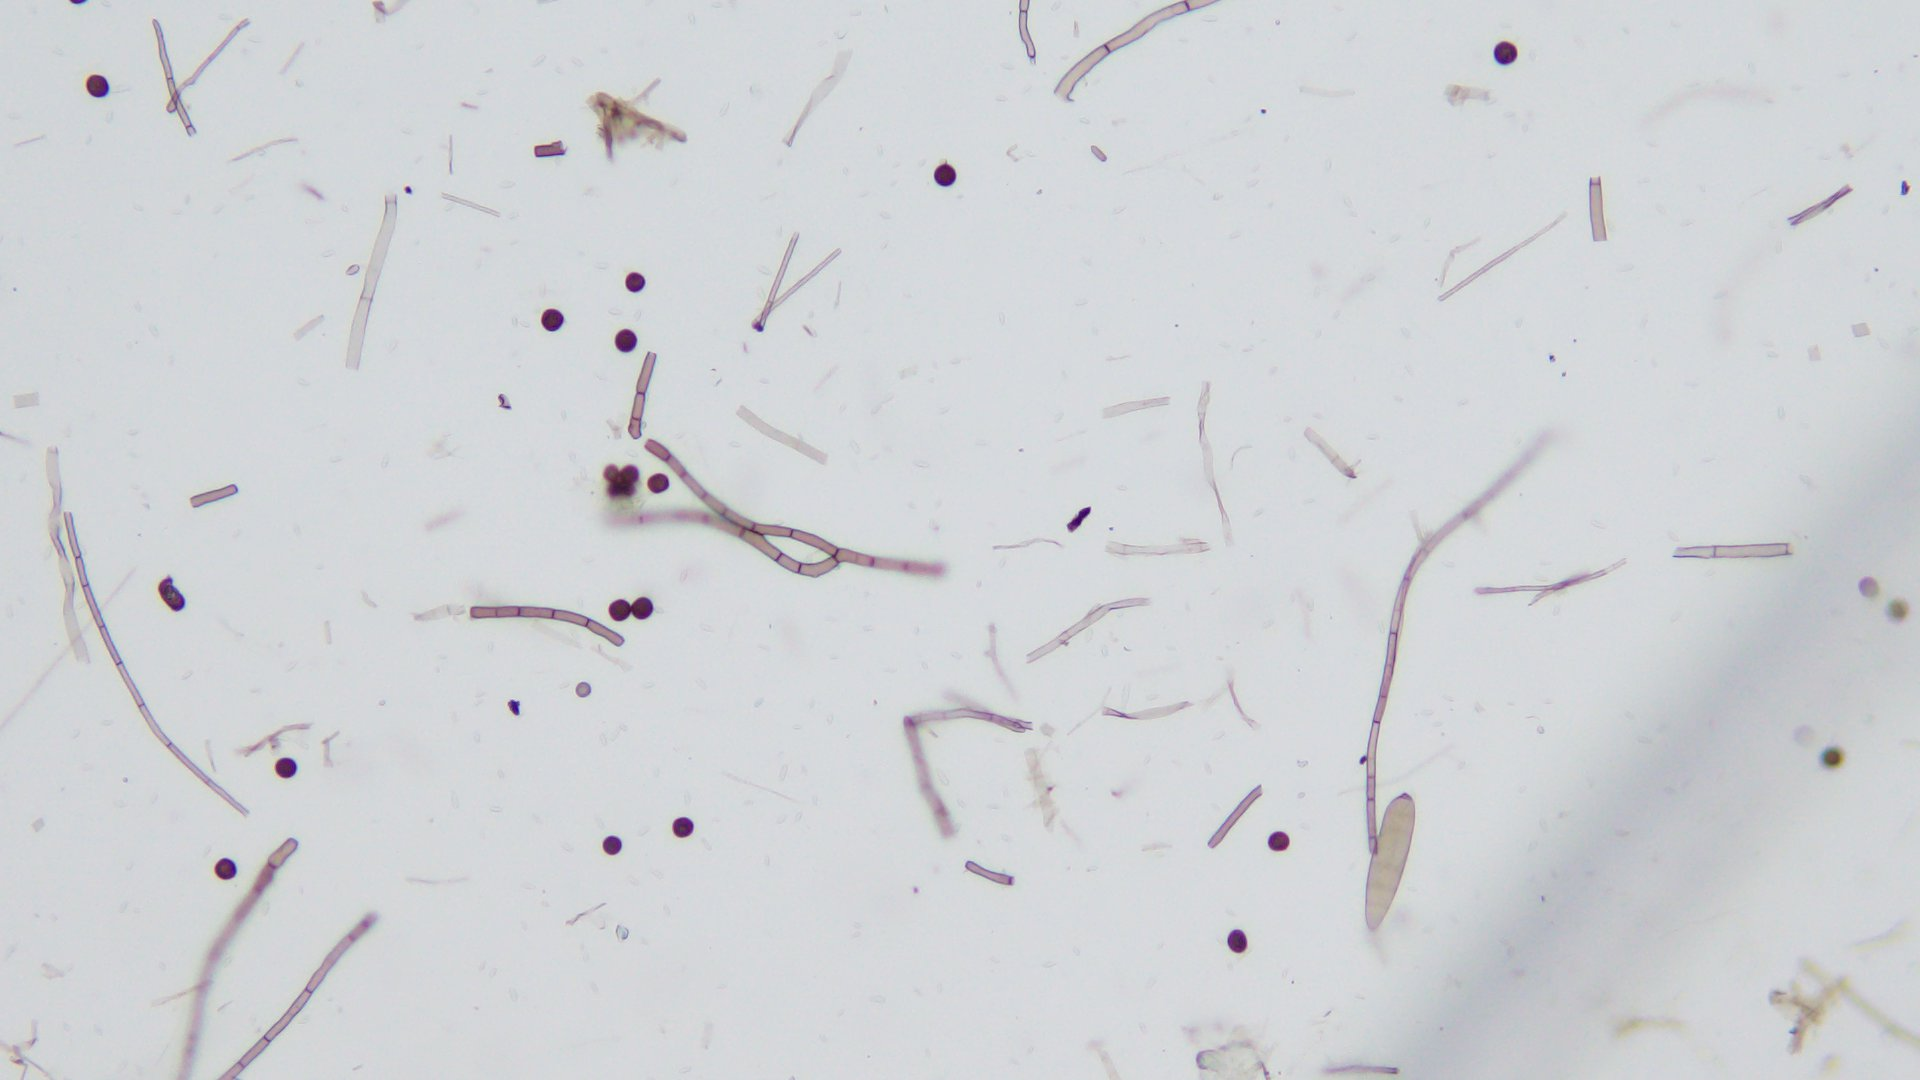dbb_spore: (1364, 795, 1416, 934)
shs_spore: (628, 597, 655, 621), (615, 328, 640, 353), (273, 756, 299, 779), (1491, 42, 1519, 65), (87, 74, 109, 99), (934, 165, 959, 187), (601, 833, 624, 858), (1228, 928, 1250, 953), (607, 599, 632, 620), (541, 310, 564, 331), (215, 858, 237, 880), (673, 819, 696, 839), (649, 473, 670, 493), (1267, 832, 1290, 851), (625, 273, 646, 291)
